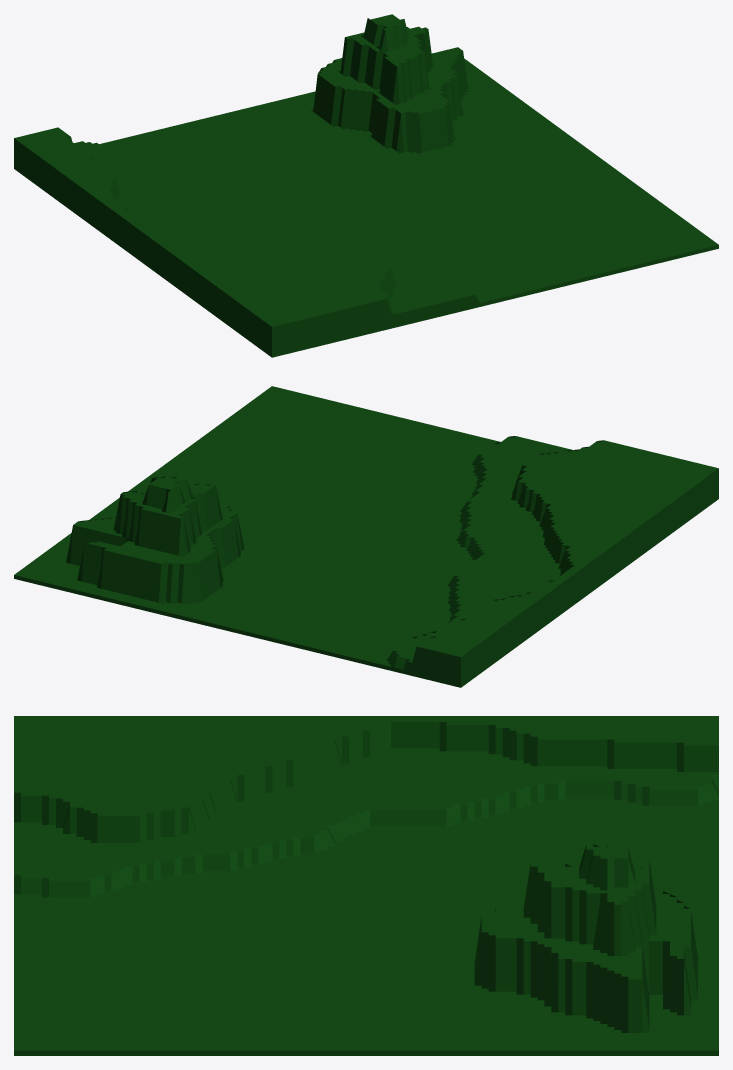
File: ground.fbx
The picture shows the model from 3 angles, top to bottom: view 1: azimuth 30°, elevation 25°; view 2: azimuth 150°, elevation 25°; view 3: azimuth 270°, elevation 25°; orthographic projection. The views are drawn at different scales.
Visible parts, largest first — view 1: Cube; view 2: Cube; view 3: Cube.
Boxes of the visible parts, x1=… form: Cube: x1=14, y1=14, x2=718, y2=357; Cube: x1=14, y1=386, x2=718, y2=687; Cube: x1=14, y1=716, x2=718, y2=1055.
Bounding box in the file's own units: 12000 × 2431 × 12000.
